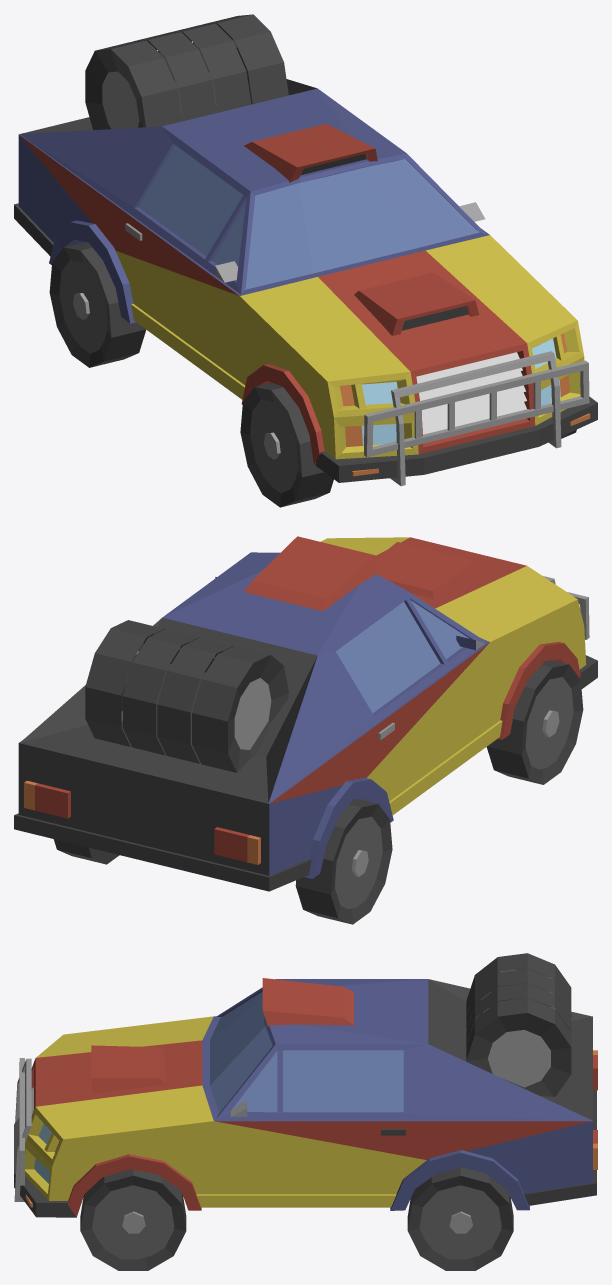
The model's file is transport_jeep_010.glb.
The picture shows the model from 3 angles, top to bottom: view 1: azimuth 30°, elevation 25°; view 2: azimuth 150°, elevation 25°; view 3: azimuth 270°, elevation 25°; orthographic projection. The views are drawn at different scales.
Visible parts, largest first — view 1: transport_jeep_010; view 2: transport_jeep_010; view 3: transport_jeep_010.
Part boxes in pixels (x1,y1,x2,y2): transport_jeep_010: (14,14,597,507); transport_jeep_010: (14,536,597,924); transport_jeep_010: (14,953,597,1270).
Size of the model in its own units: 1.76 by 1.59 by 3.68.
Materials: 1 (1 with a texture image).
